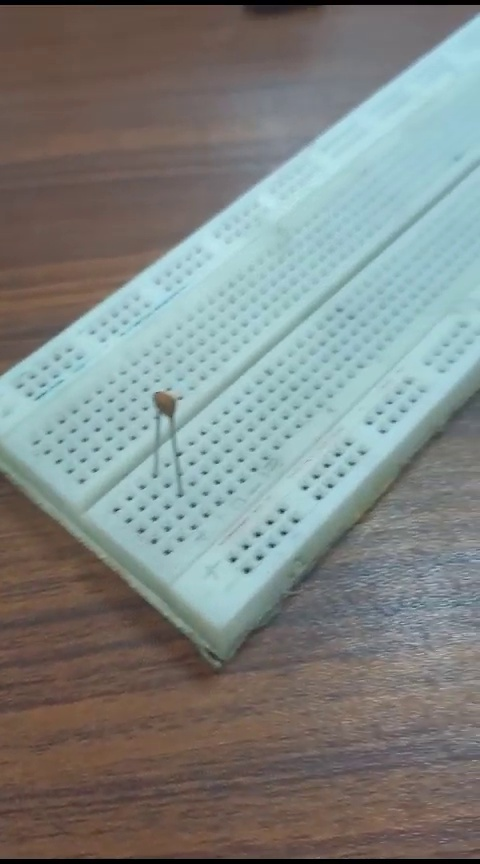ceramic capacitor: (146, 375, 202, 481)
